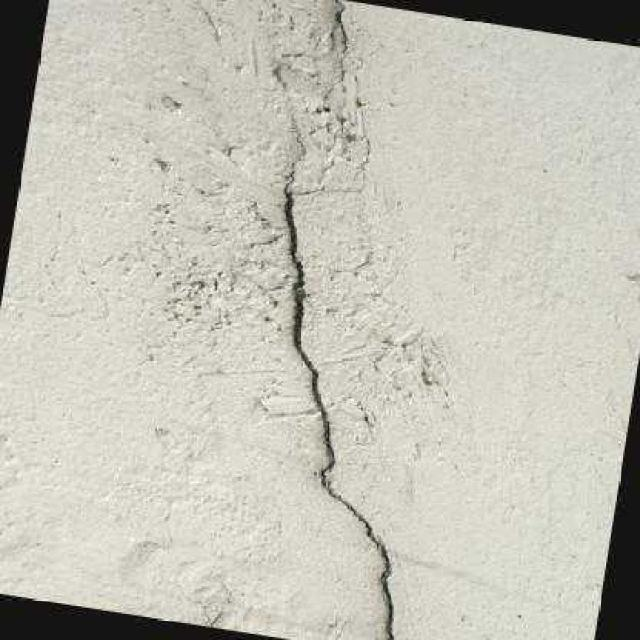D00: (281, 190, 394, 640)
